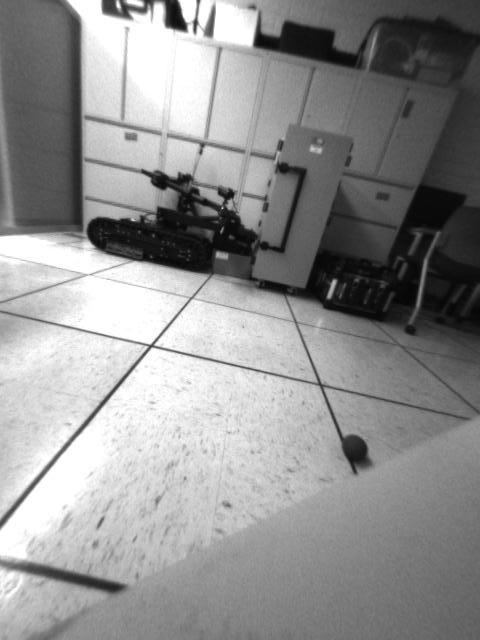dogtoy: (334, 427, 377, 467)
